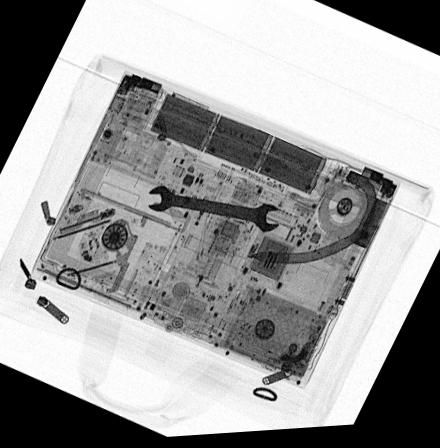Wrench: (144, 183, 282, 237)
